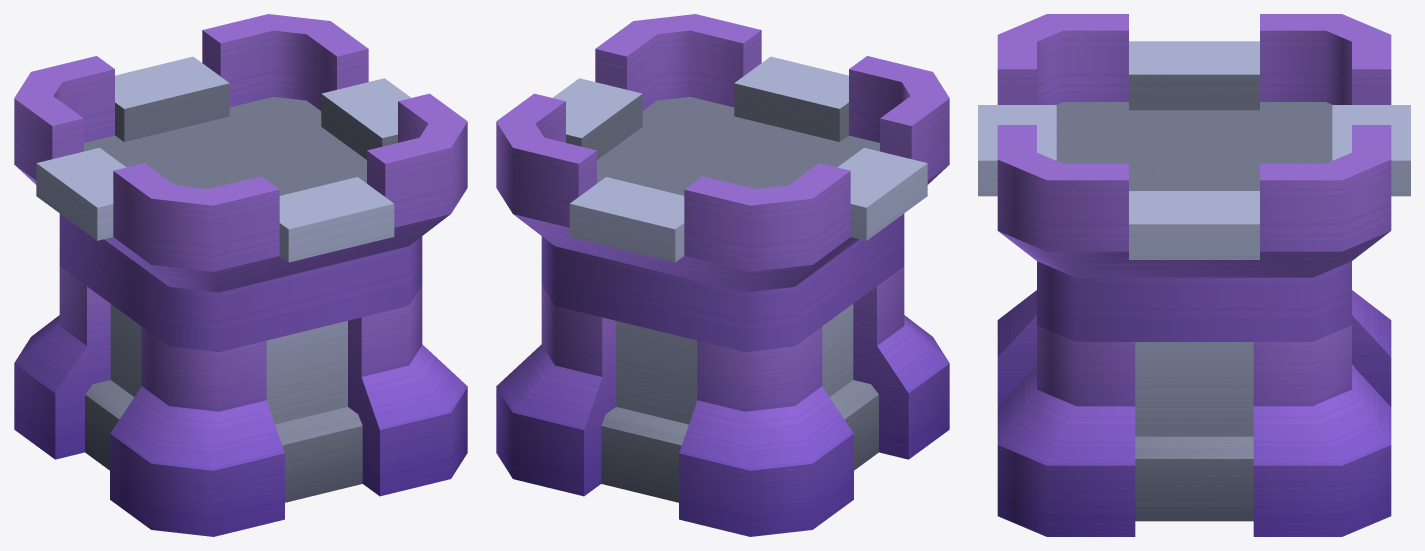
Rendered from tower_square_build_b.glb.
3 renders of one model, left to right at view 1: azimuth 30°, elevation 25°; view 2: azimuth 150°, elevation 25°; view 3: azimuth 270°, elevation 25°, orthographic. The views are drawn at different scales.
Parts seen in each view (by area): view 1: tower-square-build-b; view 2: tower-square-build-b; view 3: tower-square-build-b.
Boxes of the visible parts, x1,y1,x2,y2 form: tower-square-build-b: (14,14,467,536); tower-square-build-b: (496,14,949,536); tower-square-build-b: (978,14,1410,536).
Bounding box in the file's own units: 1.1 × 1 × 1.1.
1 material, 1 textured.
